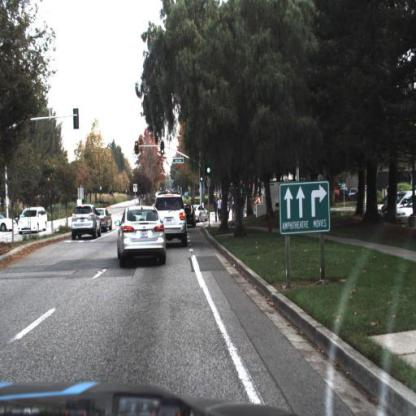car: (119, 203, 168, 269), (158, 195, 188, 248), (72, 203, 102, 239), (17, 207, 49, 234), (396, 198, 416, 223), (187, 202, 198, 230), (195, 203, 209, 222)
pedestrian: (218, 195, 223, 222)
trafficLight-Green: (160, 140, 167, 157)
trafficLight-RedLeft: (134, 140, 142, 158)
